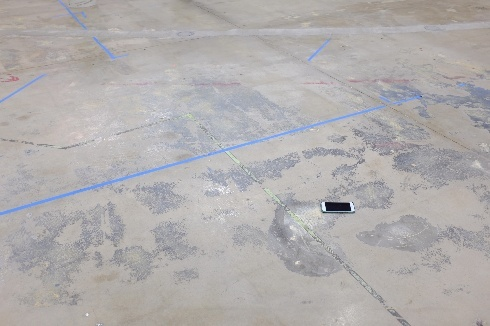phone: (313, 191, 362, 223)
